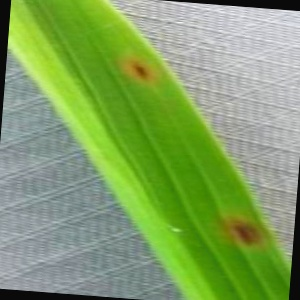Bacterial_Leaf_Blight: (224, 212, 269, 252), (123, 54, 158, 86)
